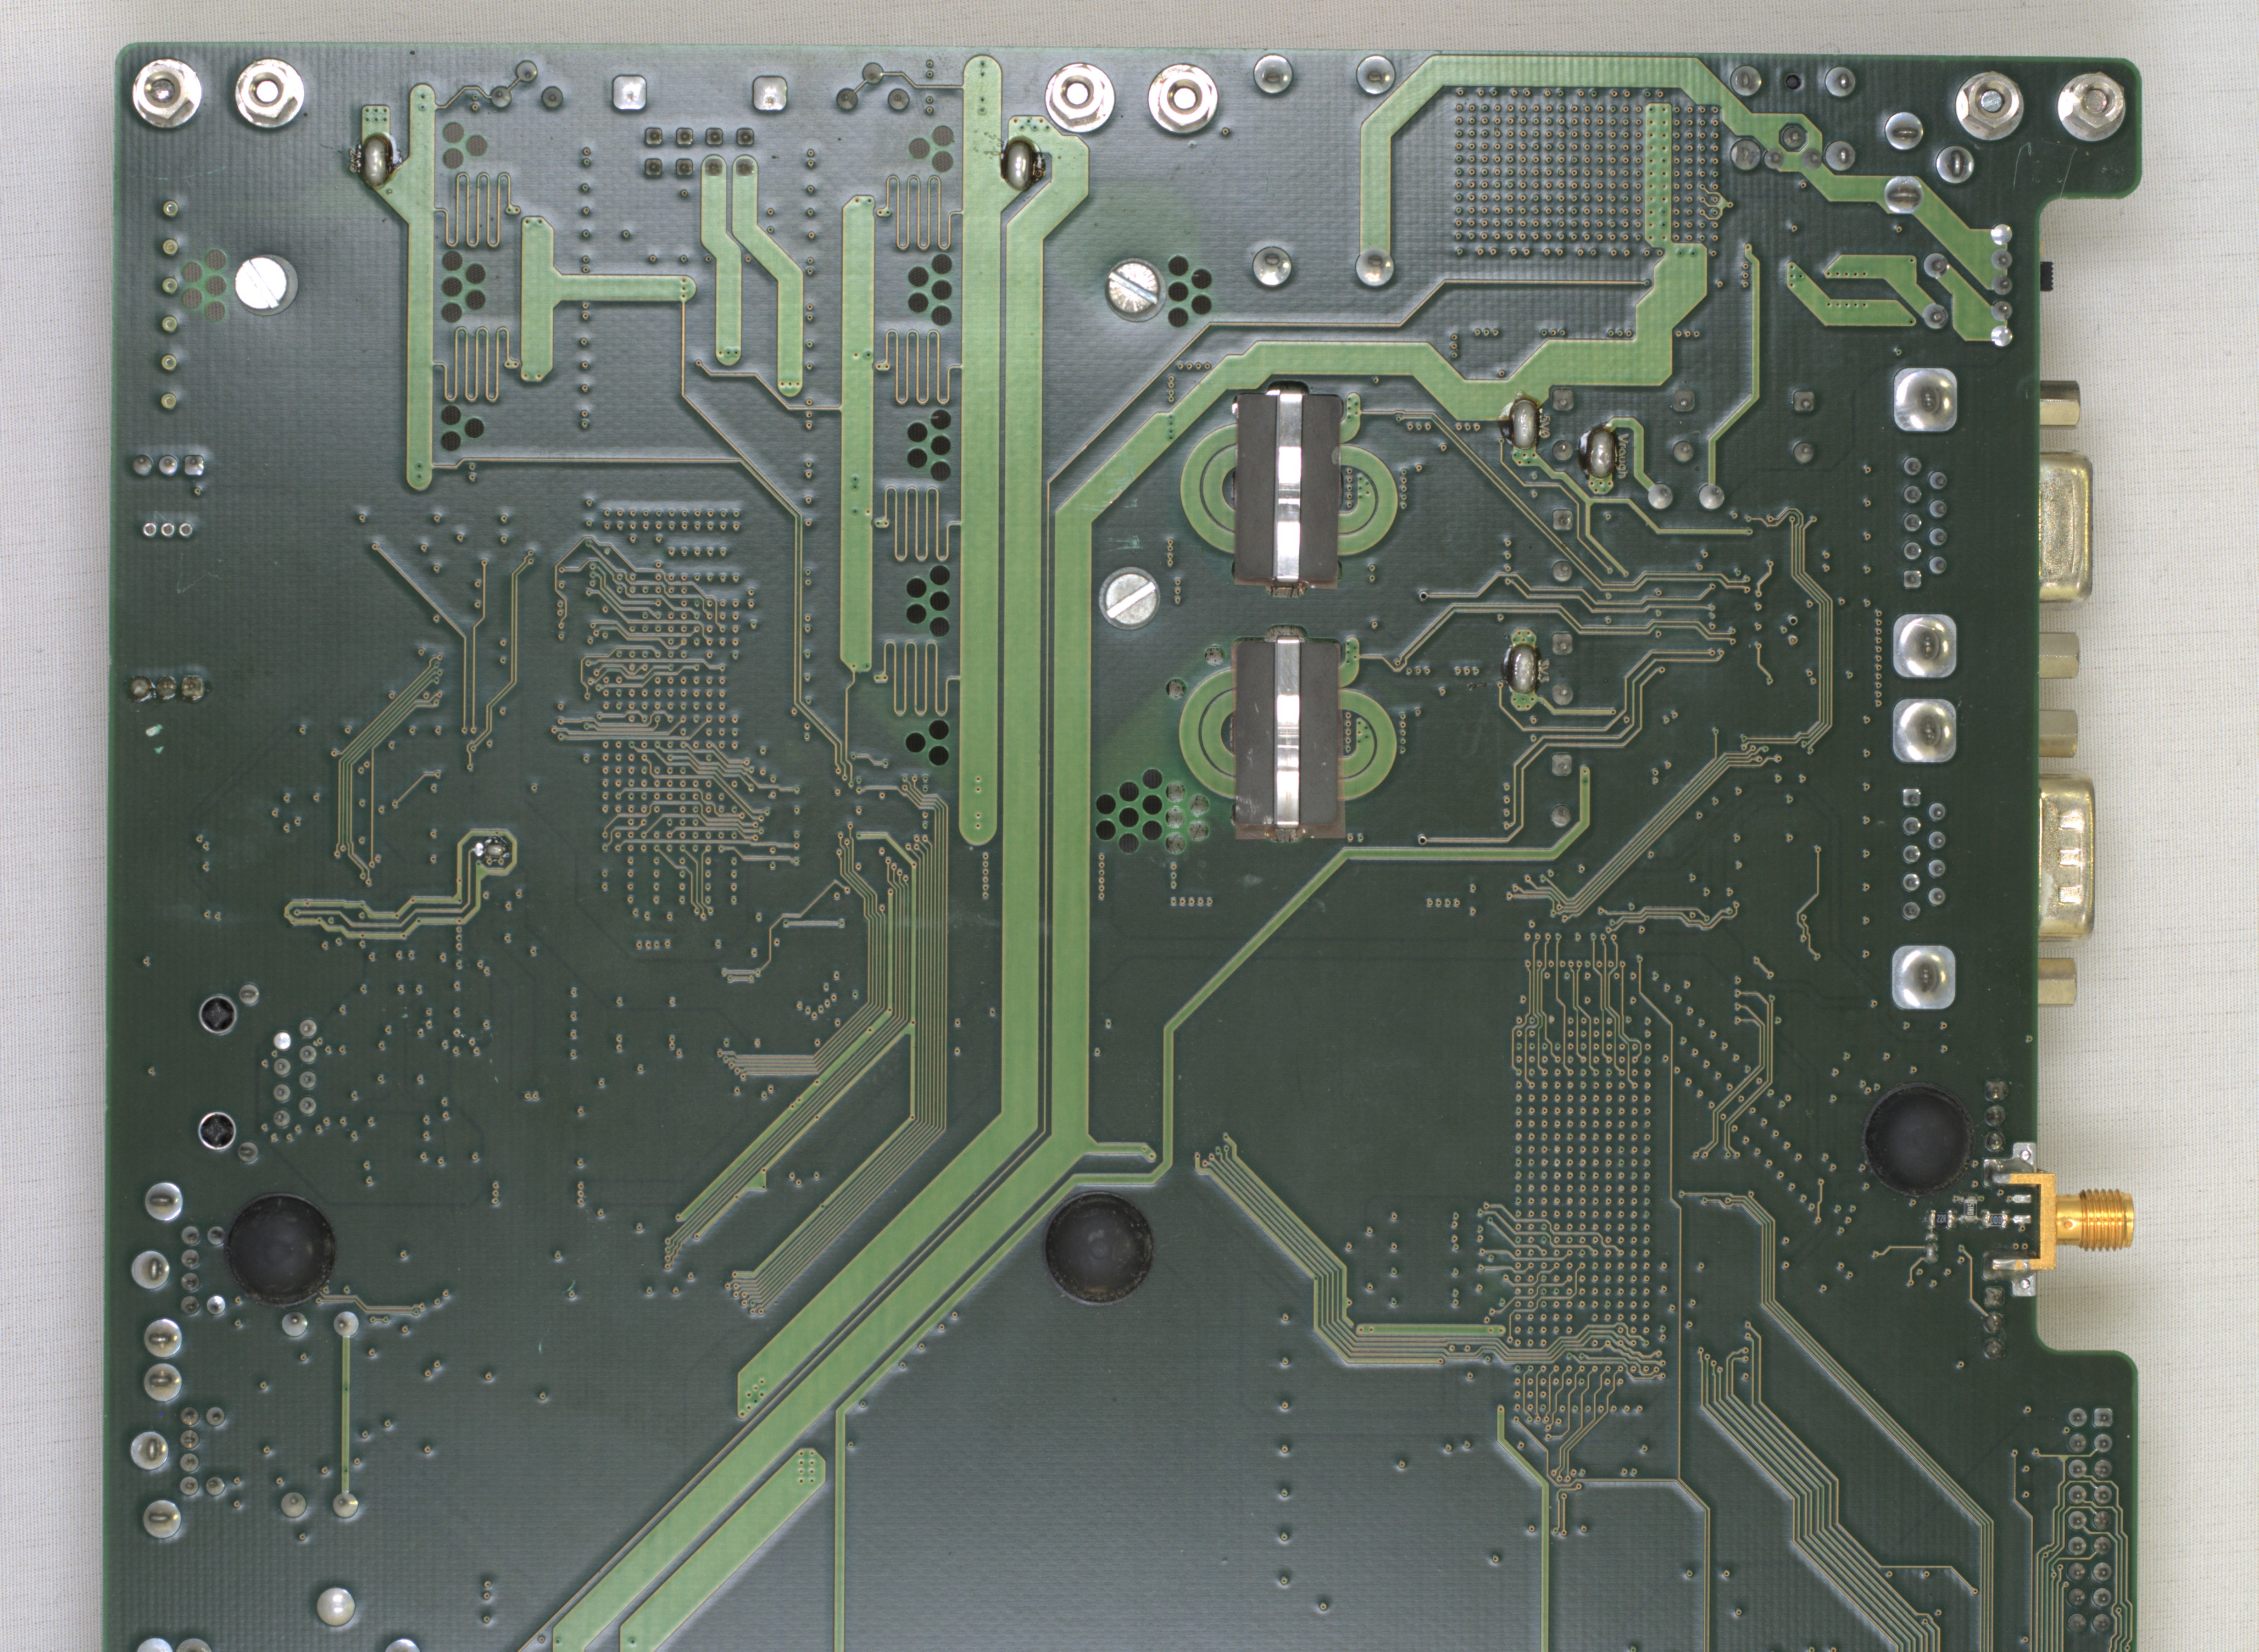capacitor 1V5: (1003, 139, 1033, 191)
capacitor 3V3: (1508, 644, 1538, 693)
capacitor 5V0: (1508, 398, 1538, 451)
capacitor CA7: (360, 132, 391, 191)
capacitor Vrough: (1586, 430, 1615, 479)
capacitor unknown: (484, 842, 507, 858)
component text" 000: (1989, 1214, 2003, 1226)
component text" 22R: (1935, 1214, 1947, 1224)
component text" 51R0: (1966, 1203, 1975, 1217)
connector unknown: (1982, 1142, 2134, 1298), (2024, 701, 2099, 1014), (2022, 374, 2098, 684), (156, 195, 182, 417), (135, 517, 196, 542)
pads unknown: (2012, 1193, 2033, 1226)
pins unknown: (1245, 54, 1403, 295), (123, 1178, 182, 1545), (277, 1310, 363, 1522), (1722, 61, 1863, 175), (1917, 223, 2024, 352), (195, 979, 263, 1171), (1668, 386, 1819, 470), (1885, 609, 1963, 768), (2064, 1403, 2117, 1634), (1880, 109, 1977, 221), (607, 70, 795, 116), (1894, 452, 1954, 593), (1896, 784, 1949, 926), (638, 123, 759, 179), (268, 1015, 321, 1135), (1887, 361, 1963, 440), (1884, 940, 1959, 1015), (177, 1403, 230, 1499), (486, 56, 567, 117), (179, 1222, 228, 1321), (831, 60, 912, 117), (123, 672, 209, 707), (1645, 482, 1731, 514), (126, 449, 210, 481), (1547, 749, 1575, 828), (1550, 386, 1577, 466), (1982, 1075, 2008, 1154), (1549, 505, 1575, 582), (1549, 631, 1575, 709), (1982, 1284, 2006, 1364)
resistor unknown: (1959, 1196, 1982, 1222), (1982, 1210, 2008, 1229), (1928, 1210, 1954, 1228)
text 1V5: (1033, 151, 1047, 179)
text 3V3: (1536, 656, 1550, 686)
text 5V0: (1536, 414, 1552, 440)
text CA7: (346, 147, 360, 177)
text Vrough: (1617, 431, 1629, 482)
